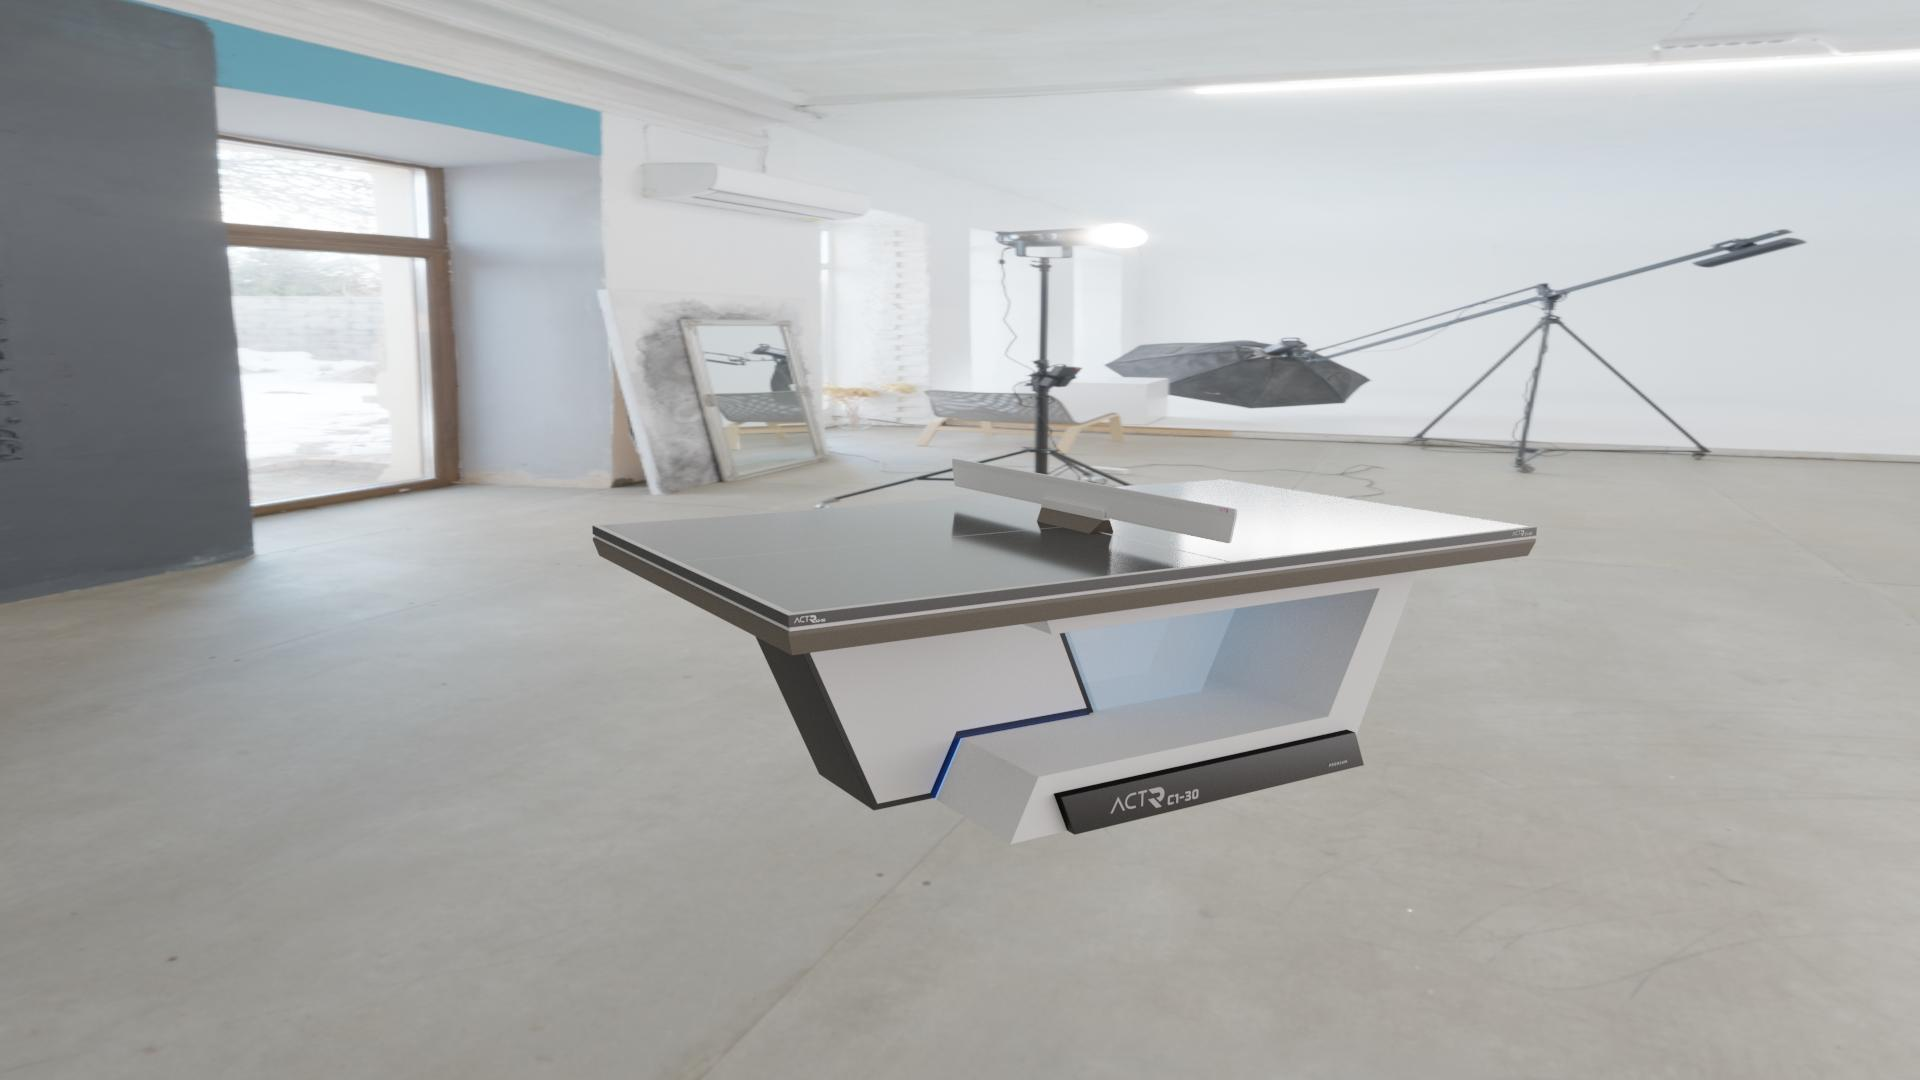table: (600, 480, 1528, 613)
